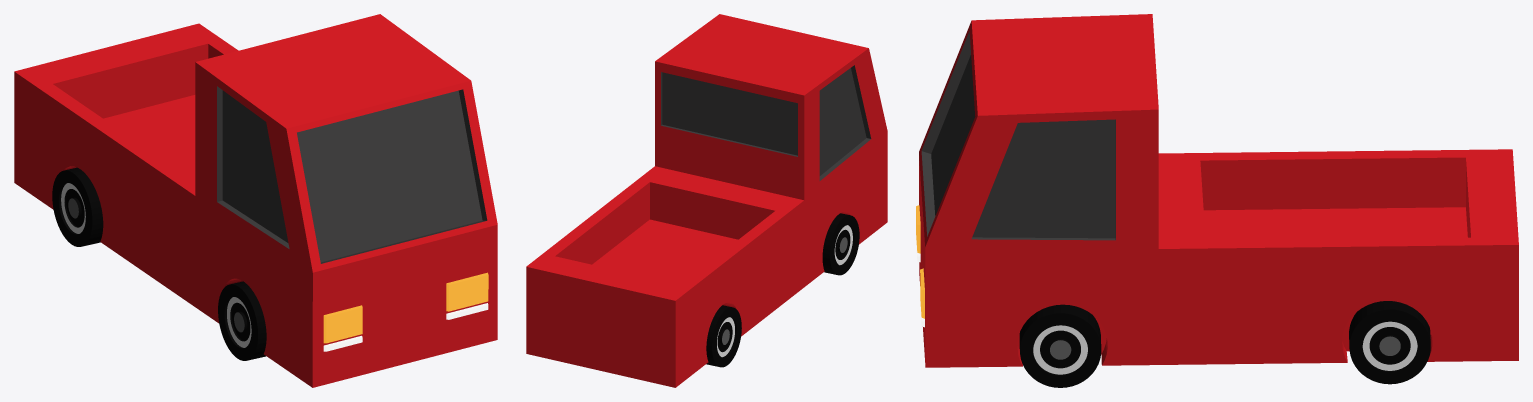
Rendered from Truck04.glb.
The picture shows the model from 3 angles, left to right: view 1: azimuth 30°, elevation 25°; view 2: azimuth 150°, elevation 25°; view 3: azimuth 270°, elevation 25°; orthographic projection. The views are drawn at different scales.
Visible parts, largest first — view 1: Cube.013; view 2: Cube.013; view 3: Cube.013.
Boxes of the visible parts, x1,y1,x2,y2 form: Cube.013: [14, 14, 497, 387]; Cube.013: [526, 14, 887, 387]; Cube.013: [916, 14, 1518, 387].
Bounding box in the file's own units: 1.48 × 1.72 × 3.44.
